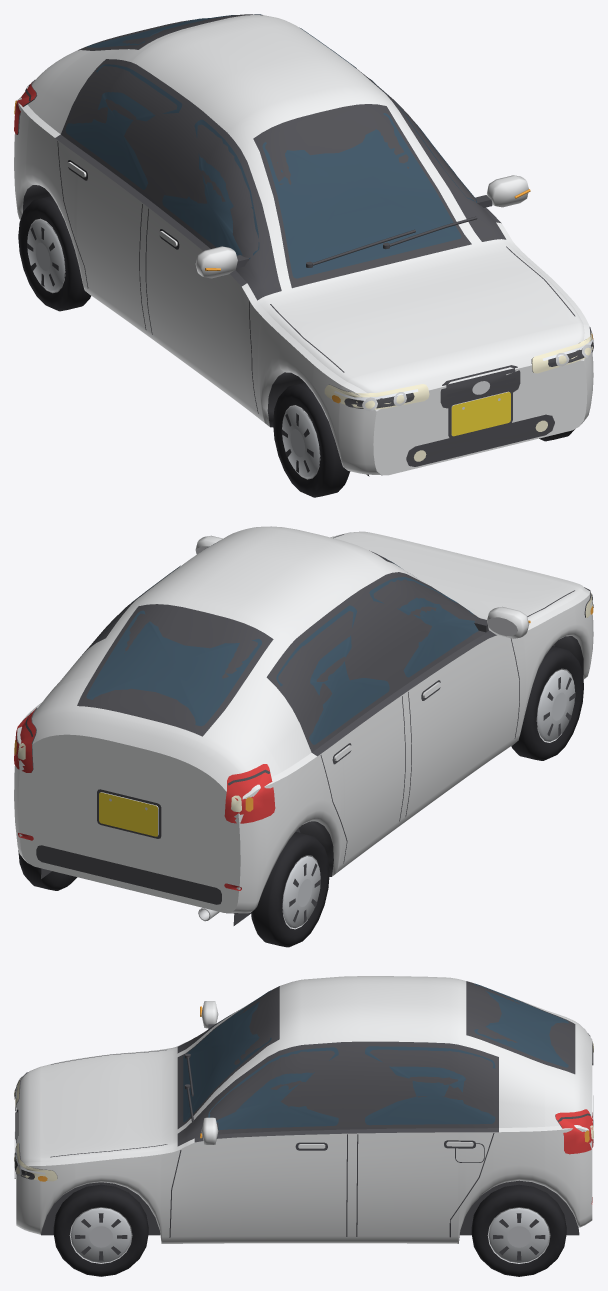
File: 2_close.fbx
The picture shows the model from 3 angles, top to bottom: view 1: azimuth 30°, elevation 25°; view 2: azimuth 150°, elevation 25°; view 3: azimuth 270°, elevation 25°; orthographic projection. The views are drawn at different scales.
Visible parts, largest first — view 1: 10_2_close; view 2: 10_2_close; view 3: 10_2_close.
Part boxes in pixels (x1=…): 10_2_close: x1=14, y1=14, x2=593, y2=497; 10_2_close: x1=14, y1=526, x2=593, y2=947; 10_2_close: x1=14, y1=976, x2=593, y2=1276.
Size of the model in its own units: 1.83 by 1.52 by 3.41.
